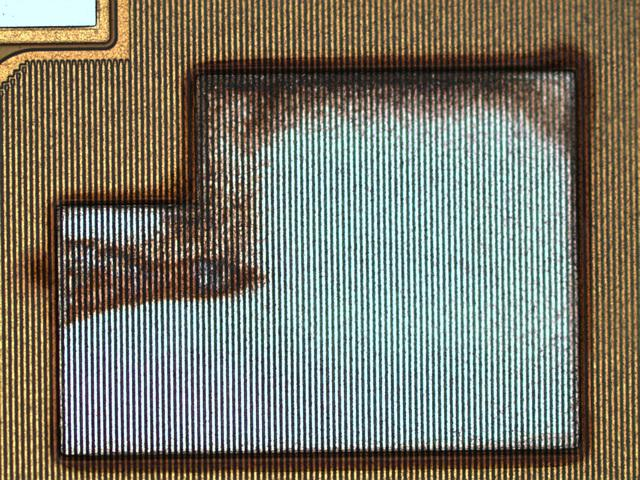SEZ BURNT: (14, 37, 602, 480)
